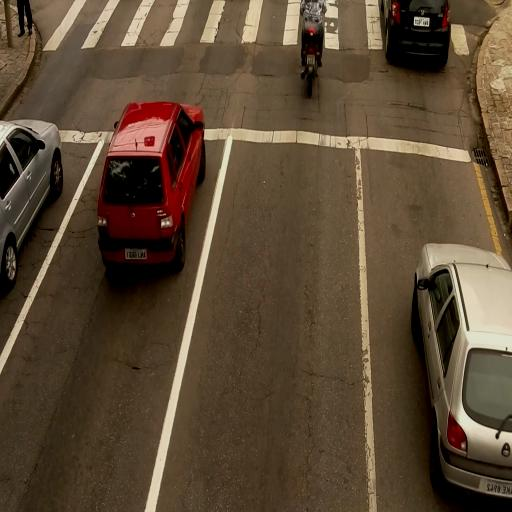car: (412, 244, 512, 502), (98, 99, 207, 271), (0, 119, 62, 290), (380, 1, 452, 65)
motorcycle: (296, 1, 326, 102)
